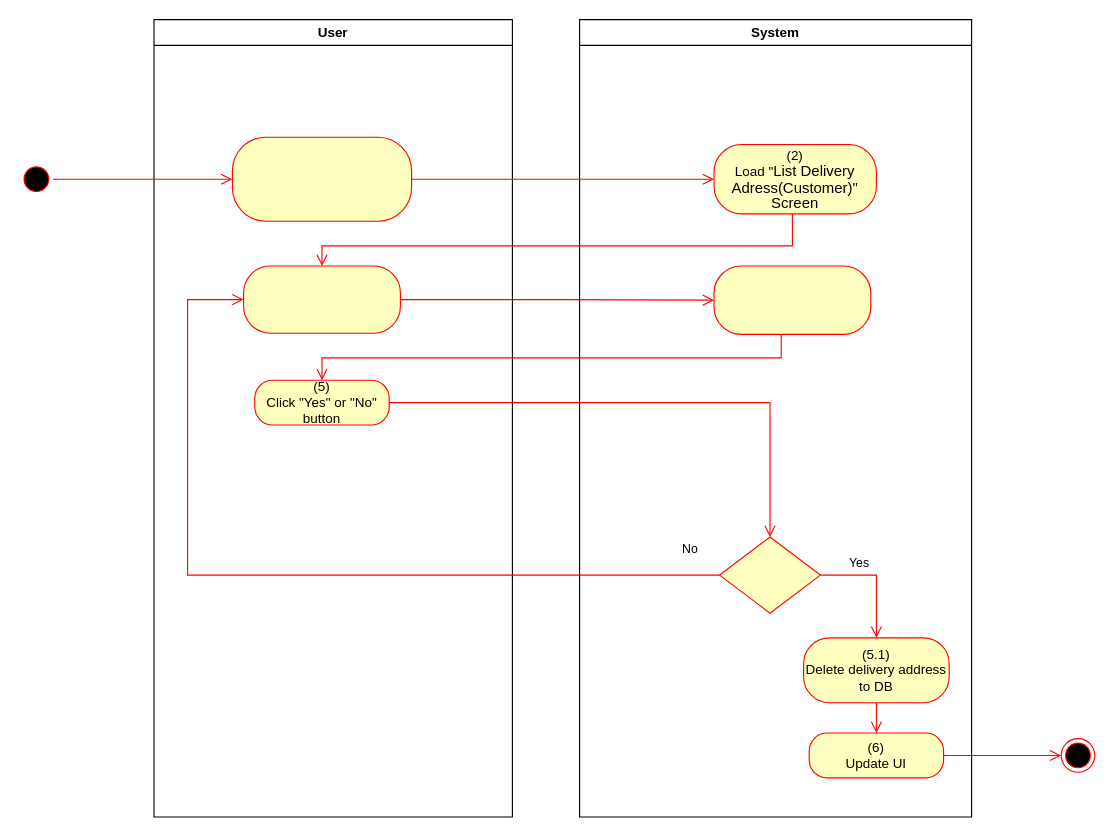
This 1114x837 diagram has some shape labels left out. Each missing label, with the centre of its shape:
(1) On "left menu" click " Delivery Address ": point (321, 178)
(3) Click button "Xóa" trên 1 item địa chỉ giao hàng bất kỳ: point (321, 299)
(4) Load " Yes/No dialog": point (792, 299)
